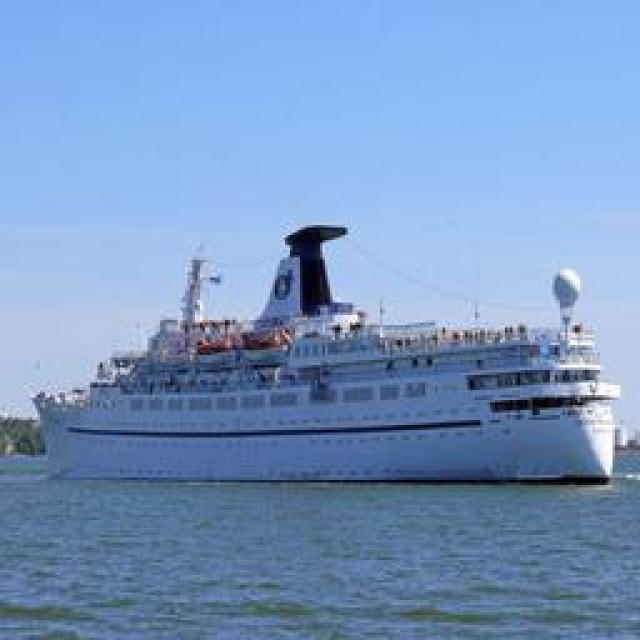ship2: (33, 225, 623, 487)
